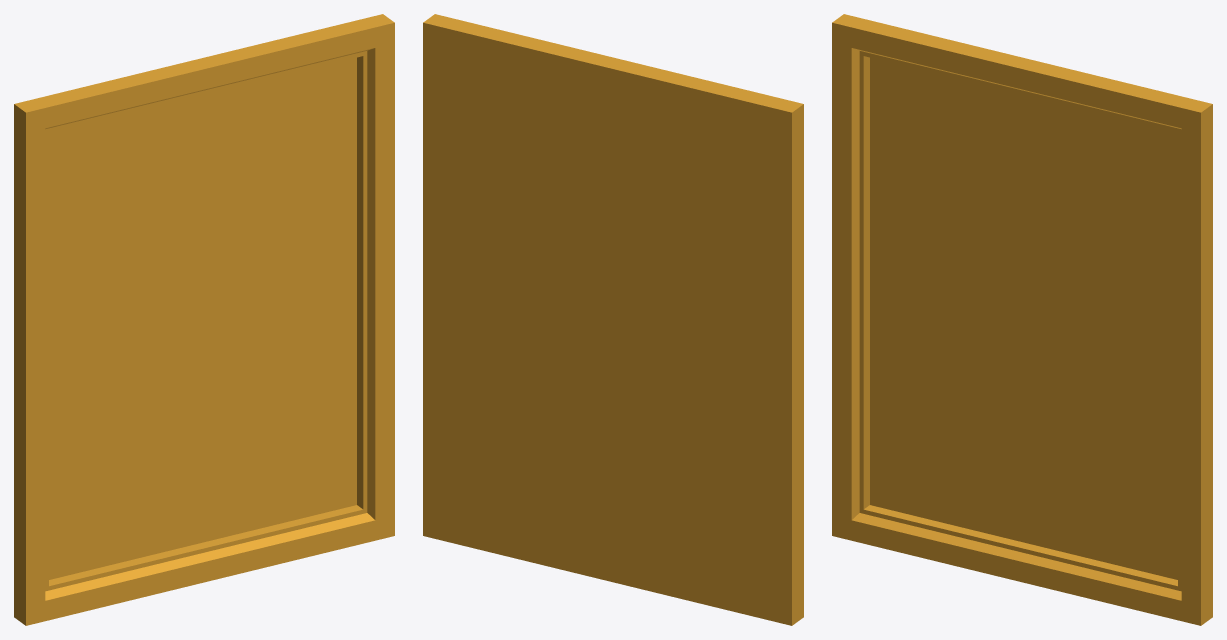
Rendered from cuadro.fbx.
3 views of the same model, side by side, from view 1: azimuth 30°, elevation 25°; view 2: azimuth 150°, elevation 25°; view 3: azimuth 330°, elevation 25° (orthographic).
Visible parts, largest first — view 1: Cube; view 2: Cube; view 3: Cube.
Boxes of the visible parts, box(x1,y1,x2,y2) form: Cube: box(14, 14, 394, 625); Cube: box(423, 14, 803, 625); Cube: box(832, 14, 1212, 625).
Bounding box in the file's own units: 2.71 × 3.6 × 0.1508.
